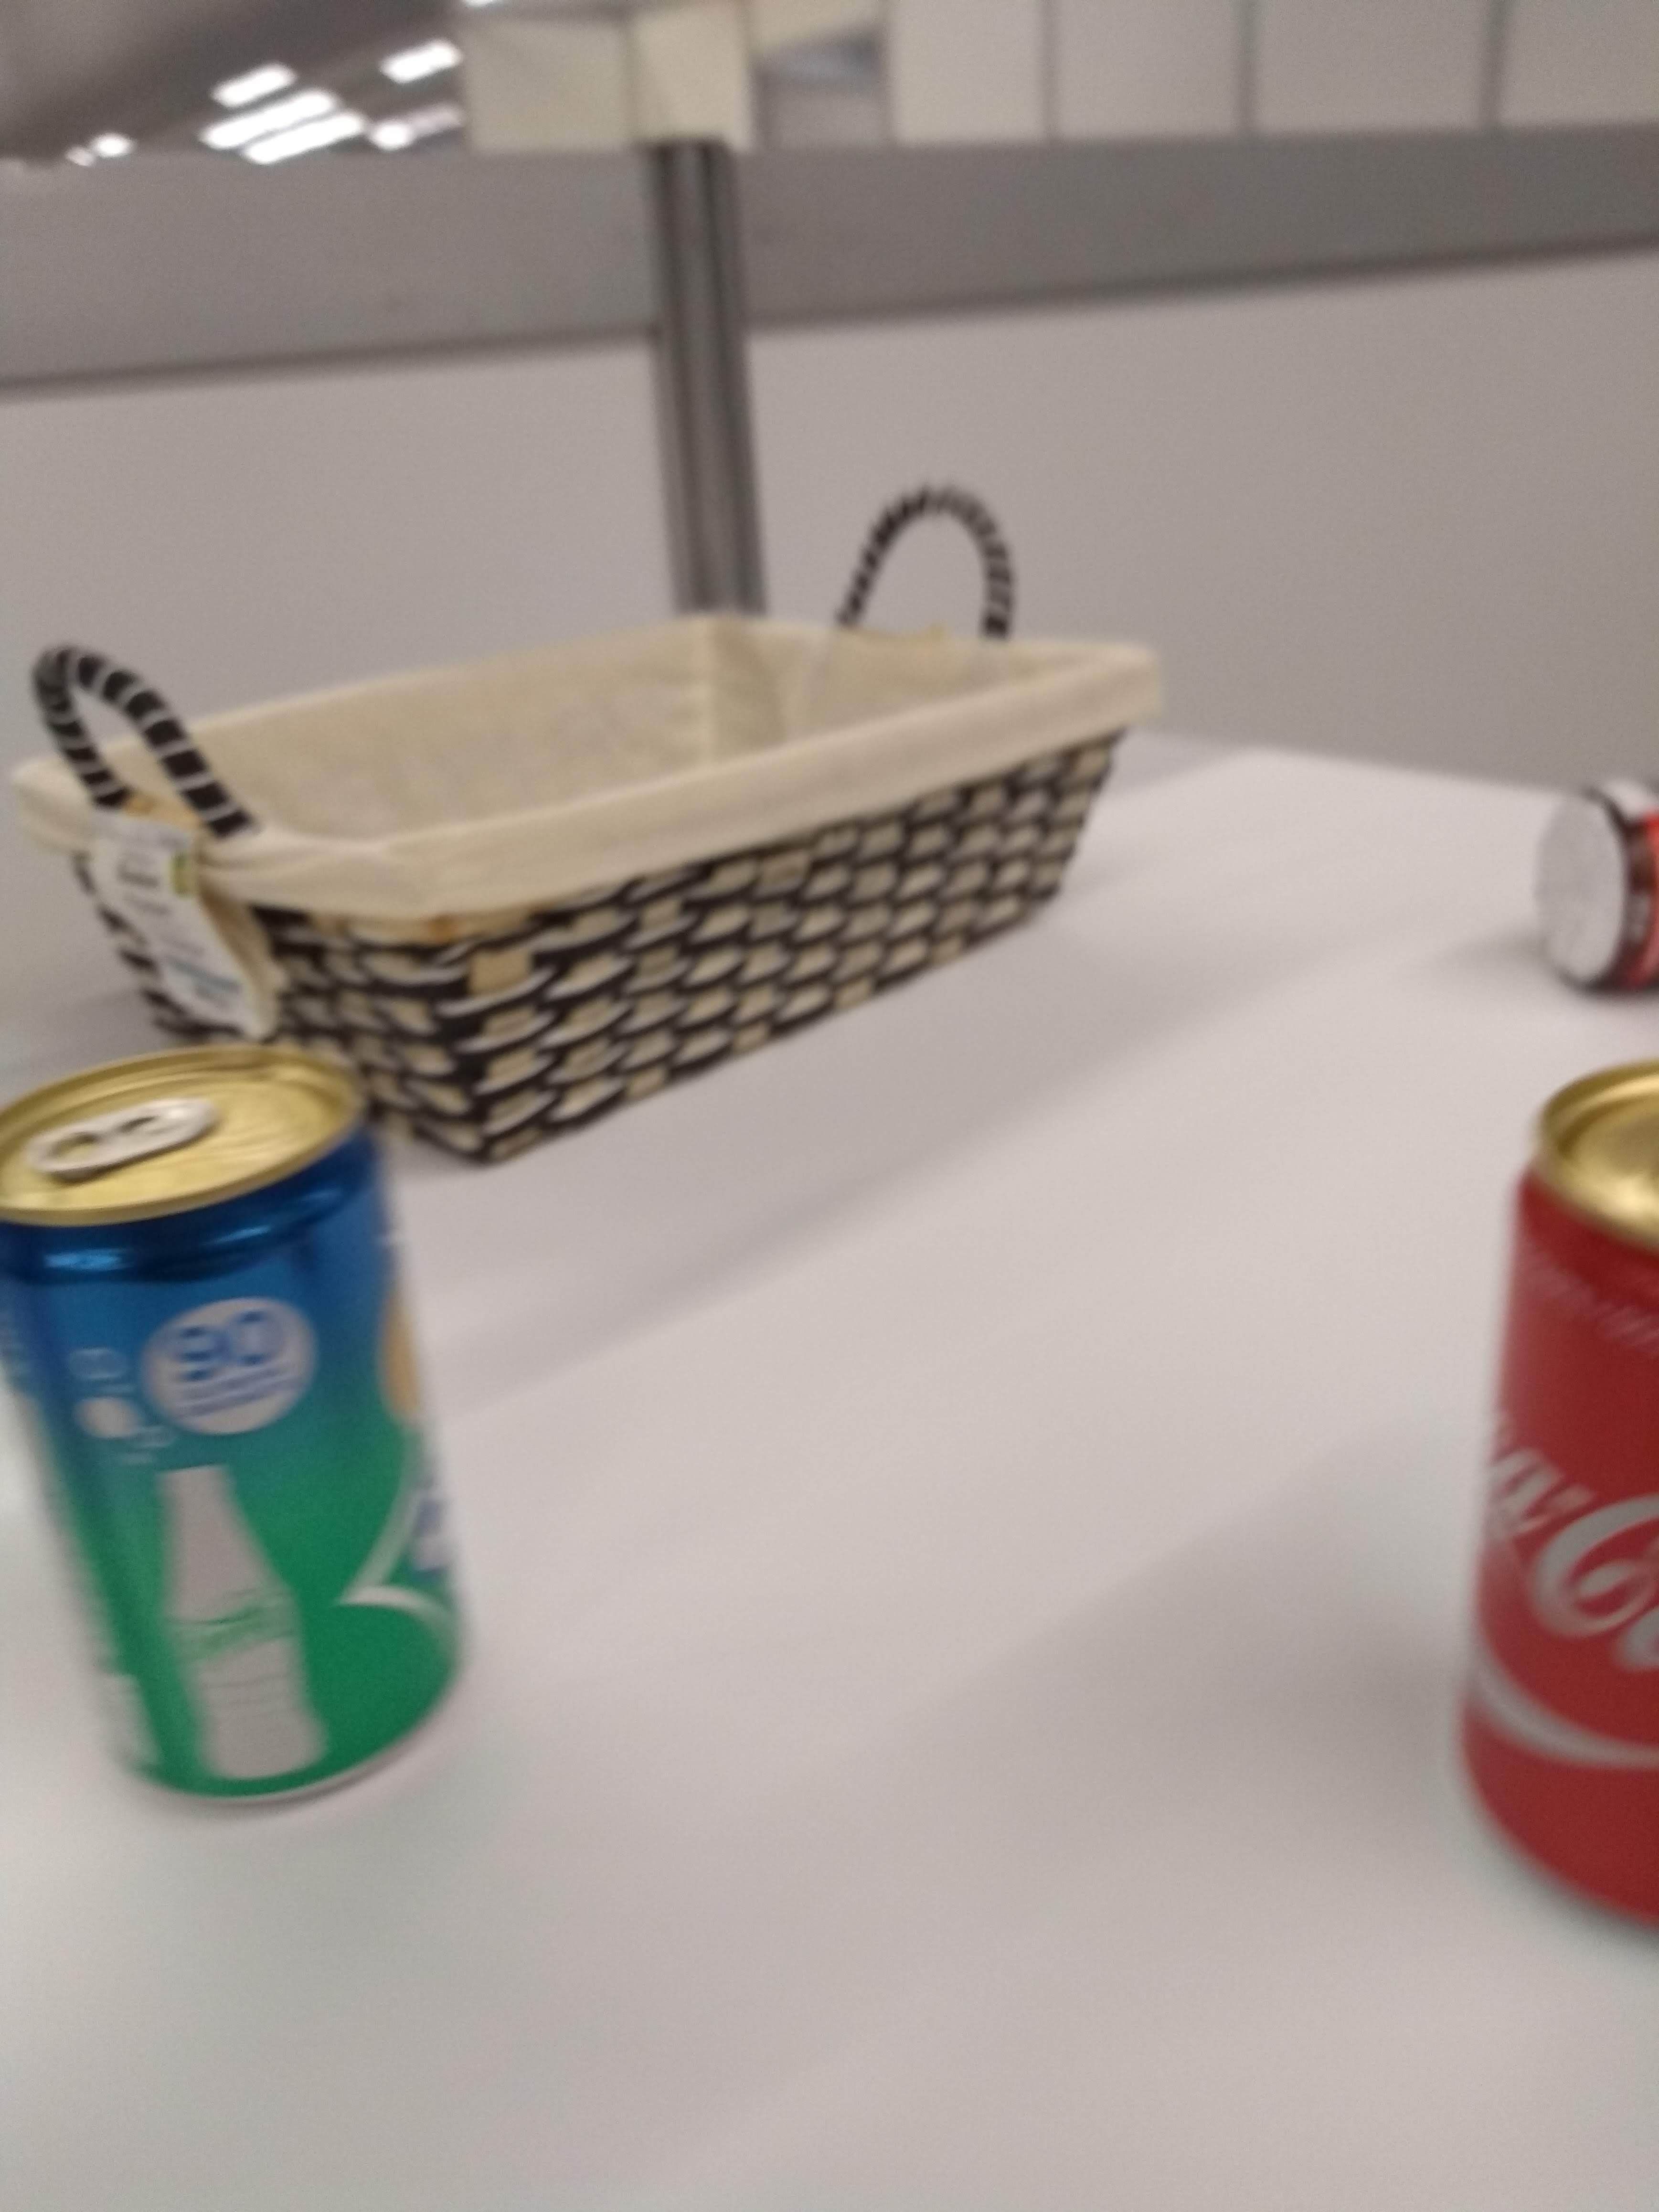basket: (9, 467, 1166, 1186)
sprite: (0, 1042, 479, 1820)
